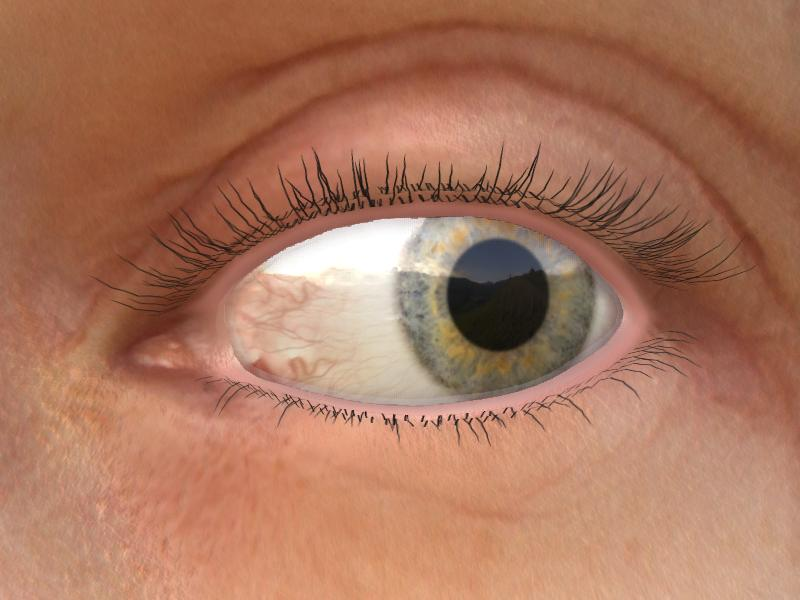eye: (398, 209, 589, 393)
